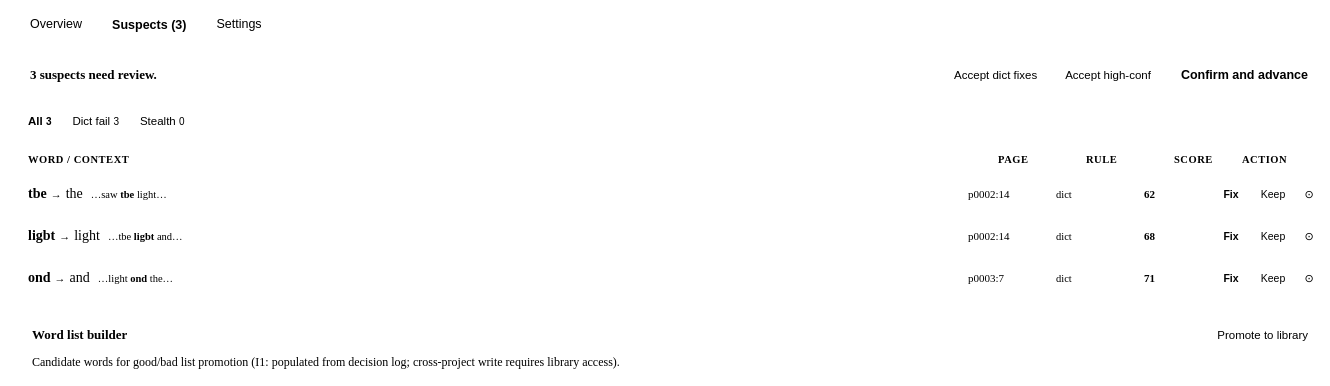
Test: WordcheckTool — tab switching › clicking Overview tab shows wordcheck-overview-tab
The image size is (1330, 386).
Click the button with test id "wordcheck-tab-overview" at (56, 25), box left=16, top=8, right=96, bottom=42
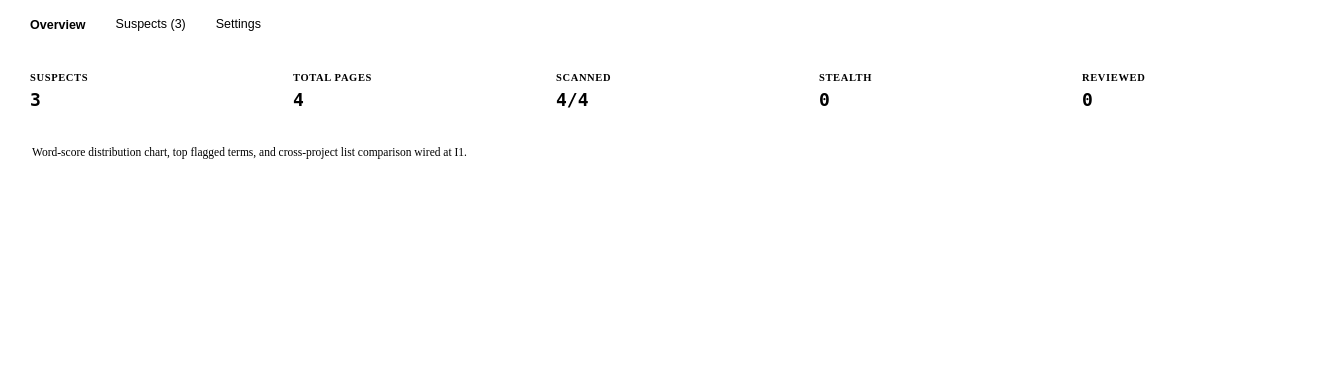
expect the element with test id "wordcheck-overview-tab" is shown: met, box left=30, top=72, right=1145, bottom=158
